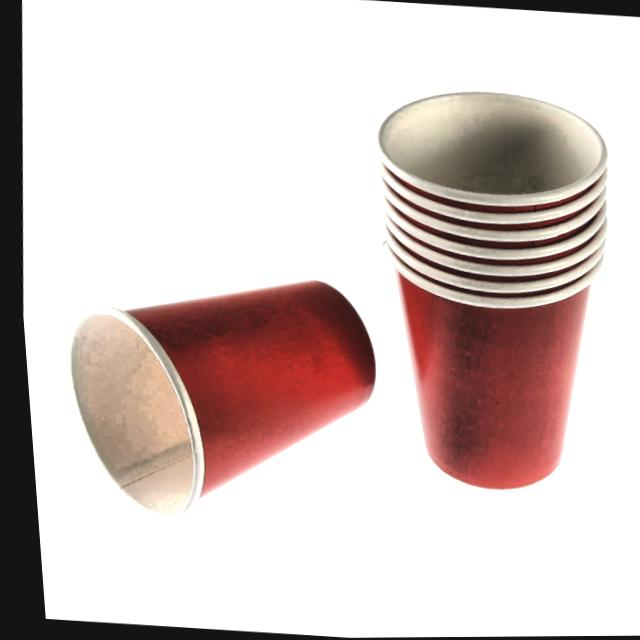Cup: (337, 79, 640, 513), (52, 253, 397, 547)
